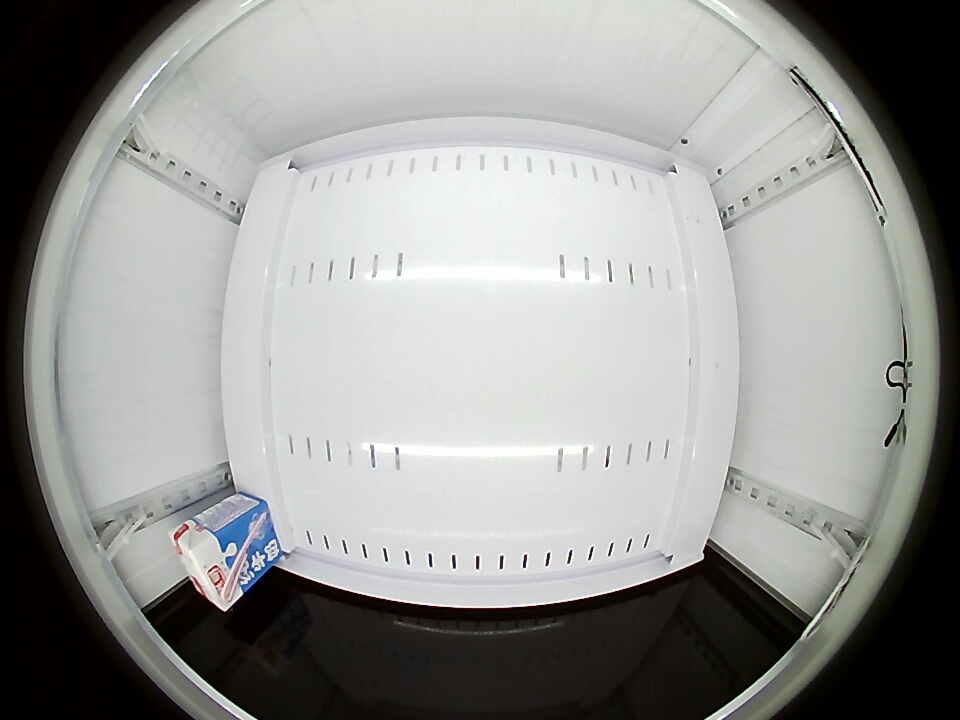niunai: (171, 516, 247, 611)
